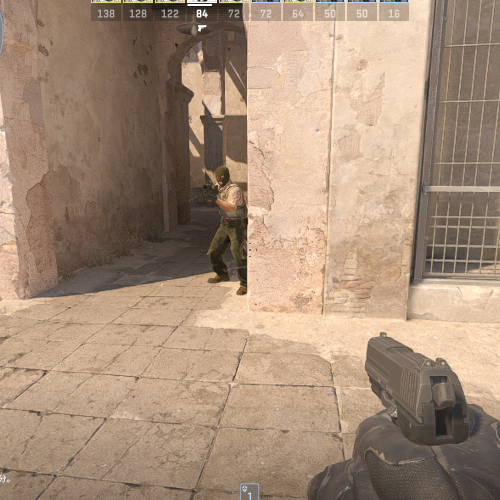t_body: (208, 165, 248, 295)
t_head: (215, 165, 230, 188)
